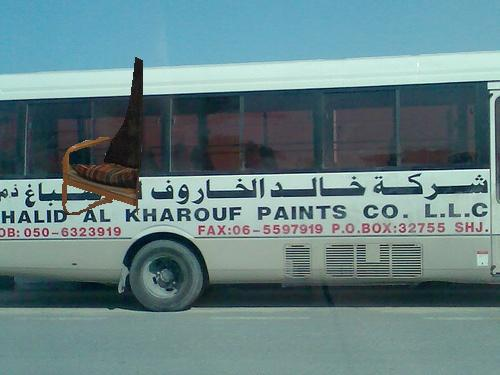tampered: (62, 58, 143, 215)
